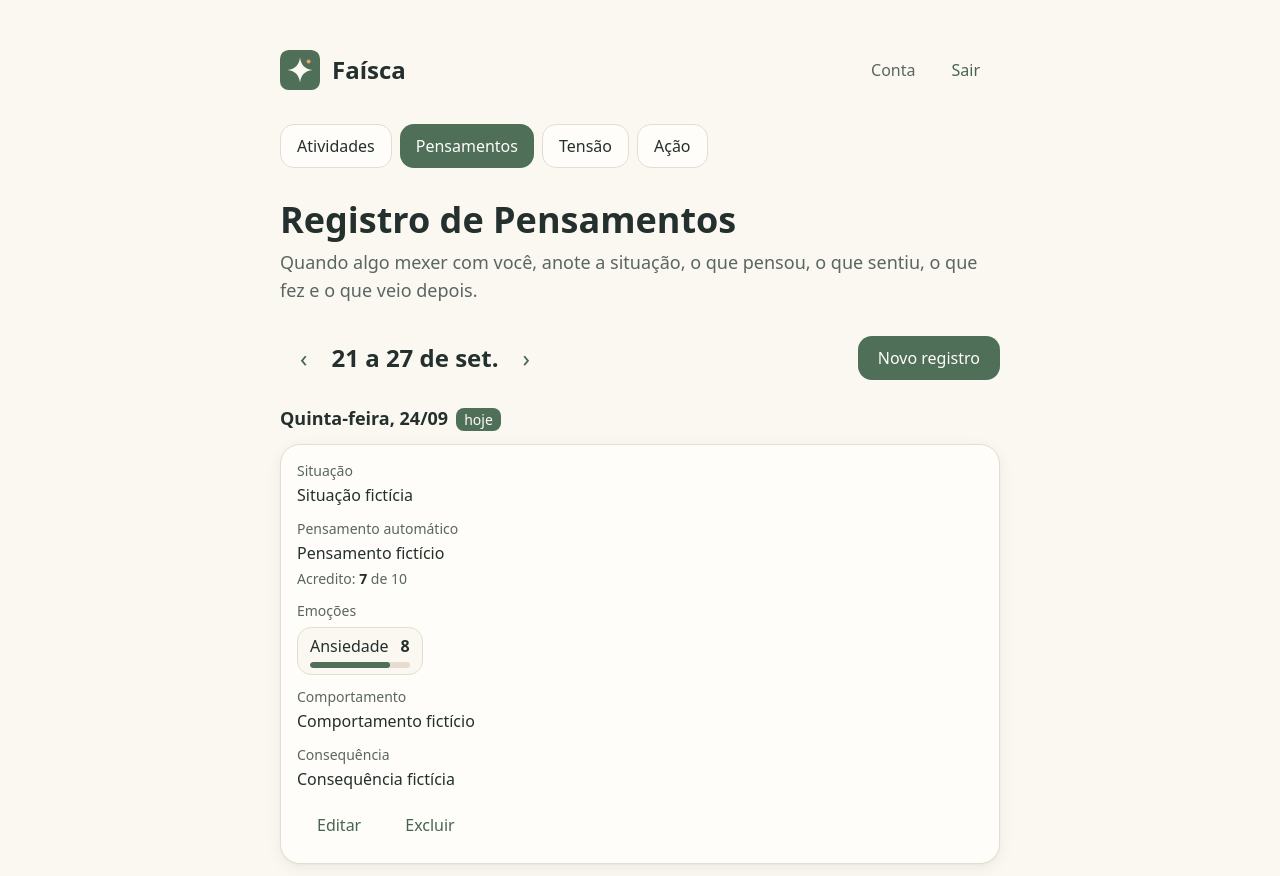
it: /pensamentos › excluir pede confirmação, apaga e avisa
This screenshot has width=1280, height=876.
Click the button "Excluir" at (430, 825), box [385,803,475,847]
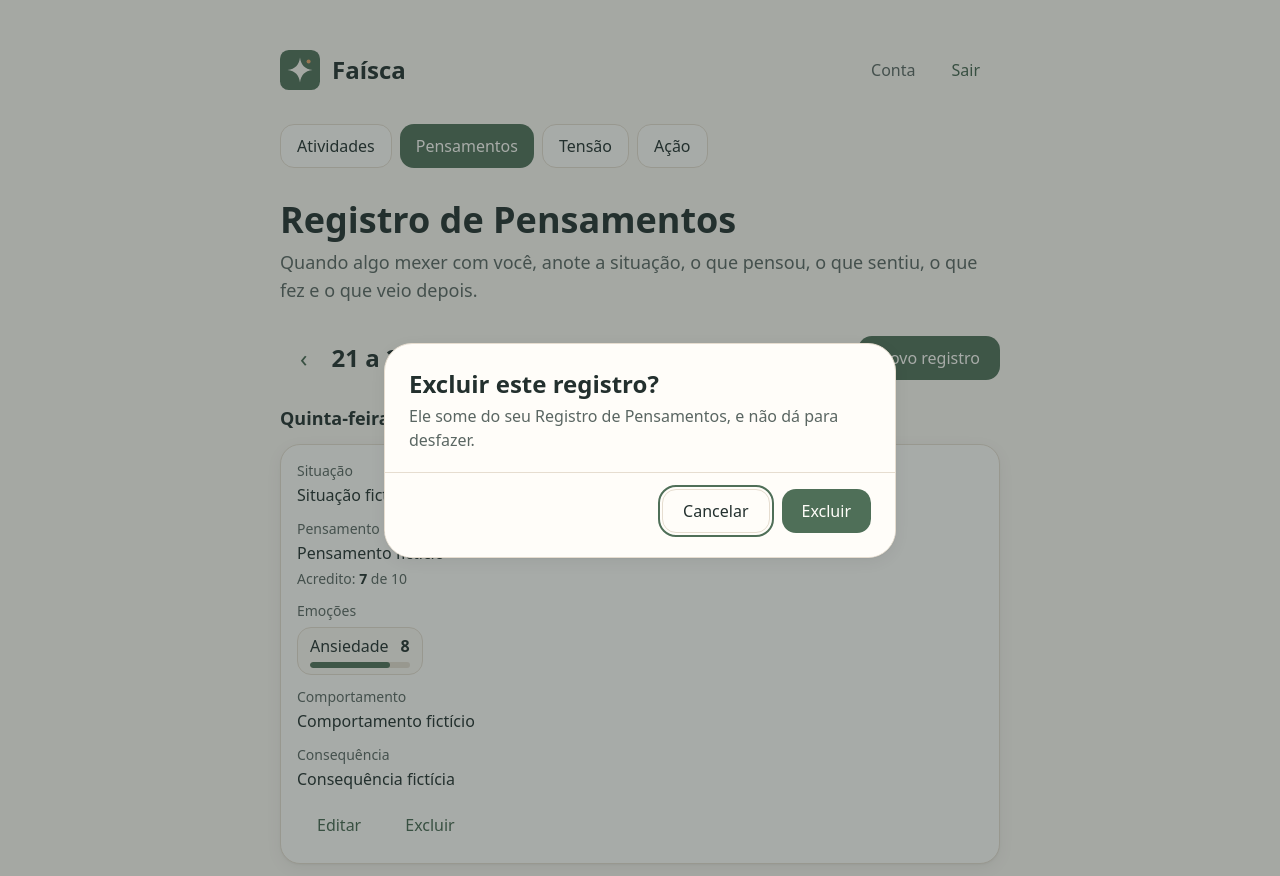
Click the button "Excluir" at (826, 510), box [782,488,871,532]
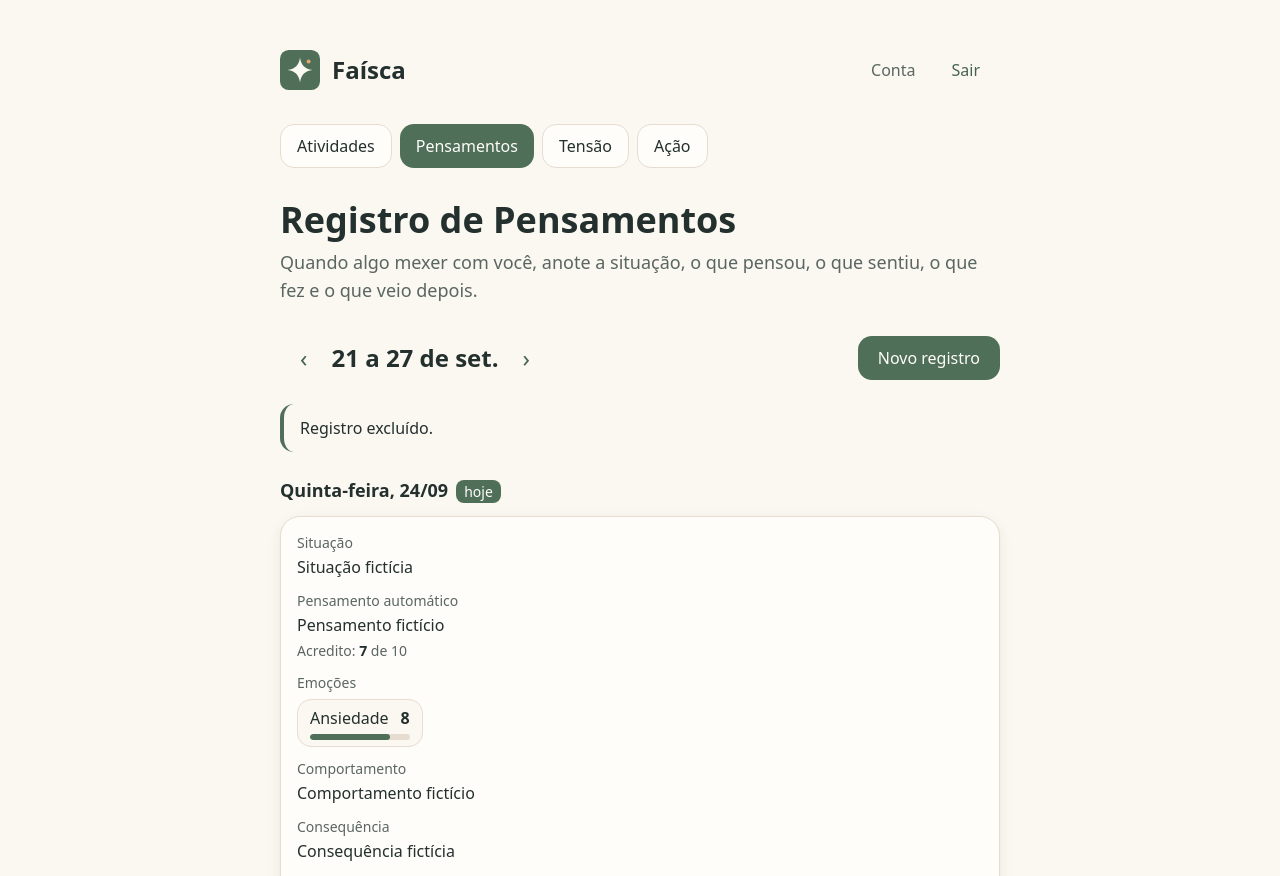
Now the text "Registro excluído." is shown, box [280,404,1000,452]
